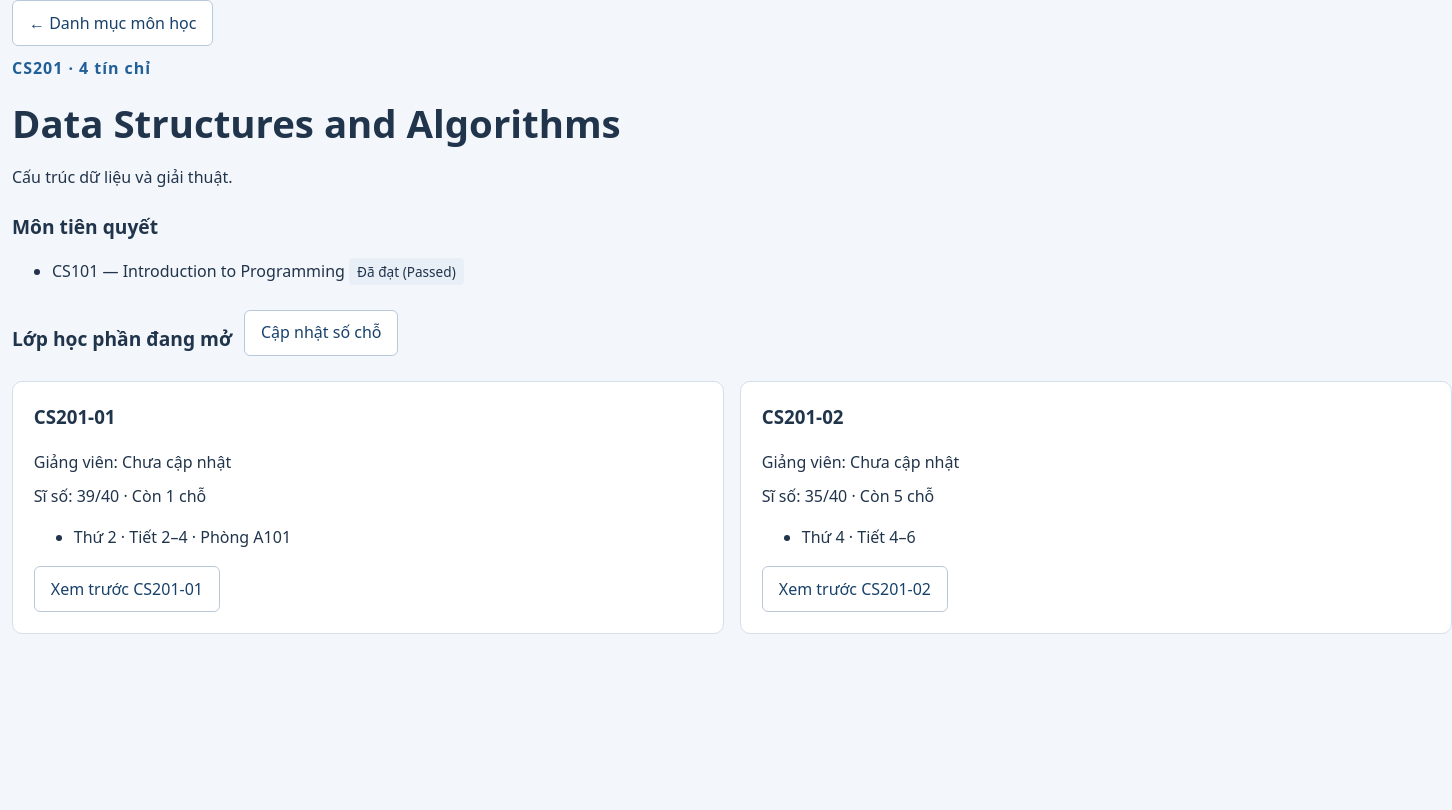
it: US-03 và xem trước đăng ký › tô đỏ tiết trùng, hiển thị lớp xung đột và khóa nút theo API
Step 1. Click the button "Xem trước CS201-01" → (127, 589), box [34,566,220,612]
(page scrolled)
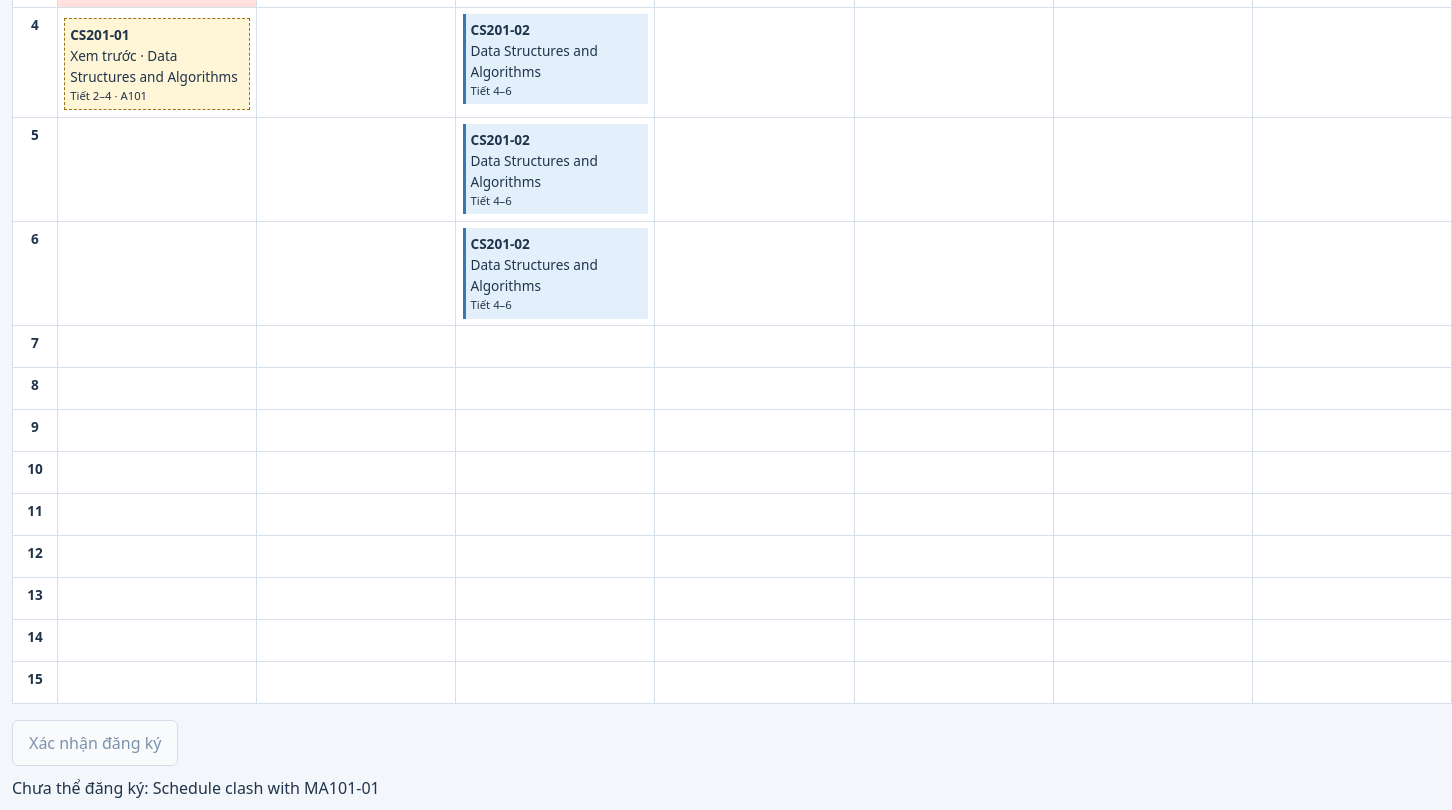
Check: the button "Xác nhận đăng ký" is disabled, box [12,720,178,766]
Check: the number of elements with class "clash" is 2
